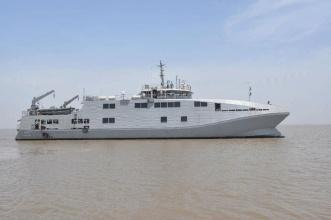yacht: (16, 62, 296, 145)
